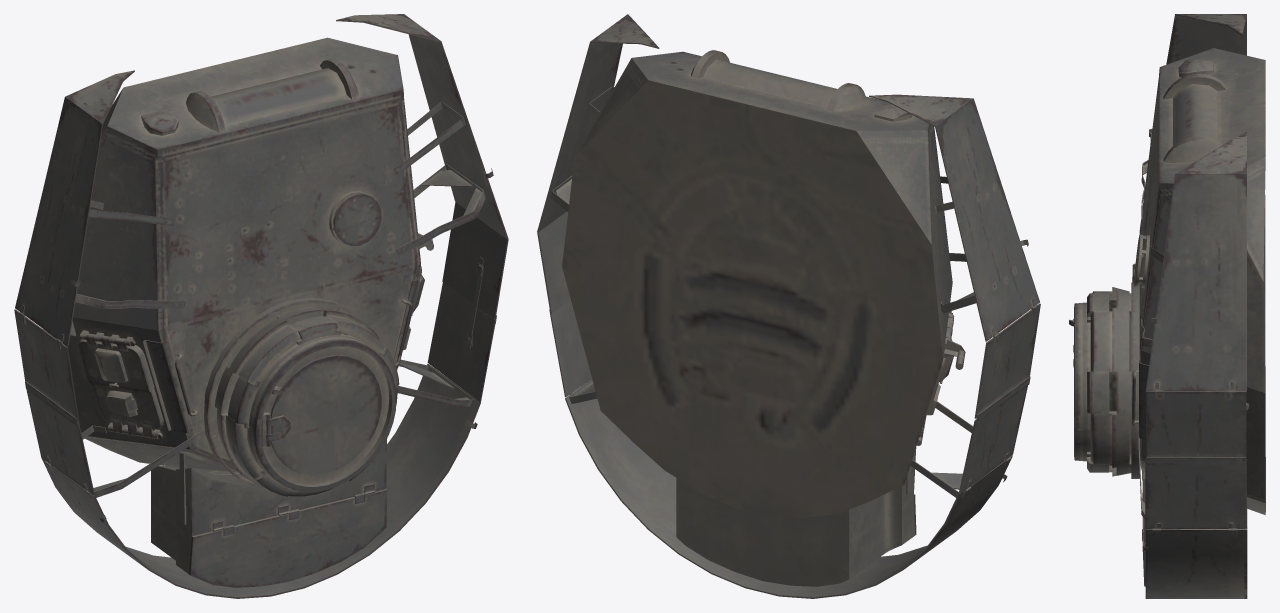
Rendered from Turret_02.glb.
3 views of the same model, side by side, from view 1: azimuth 30°, elevation 25°; view 2: azimuth 150°, elevation 25°; view 3: azimuth 270°, elevation 25° (orthographic). The views are drawn at different scales.
Visible parts, largest first — view 1: set_0_group_0; view 2: set_0_group_0; view 3: set_0_group_0.
Part boxes in pixels (x1,y1,x2,y2): set_0_group_0: (14, 14, 508, 598); set_0_group_0: (537, 14, 1040, 598); set_0_group_0: (1069, 14, 1265, 598).
Bounding box in the file's own units: 2.48 × 2.72 × 0.983.
1 material, 1 textured.
